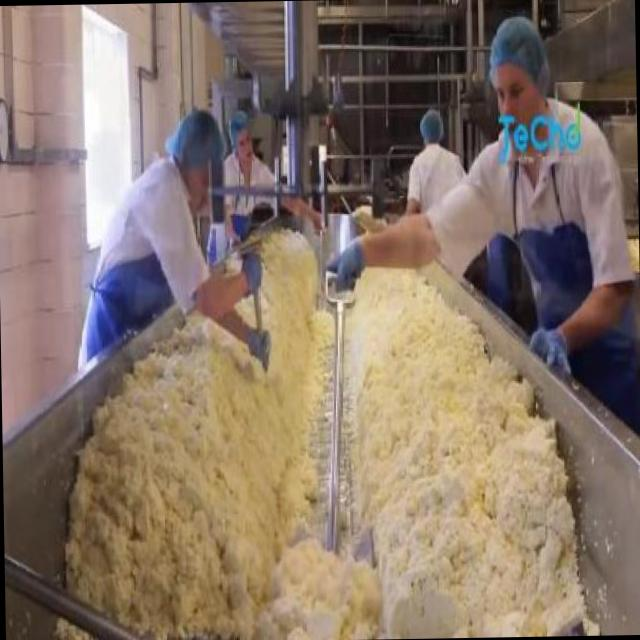hairnet: (488, 16, 551, 77), (169, 107, 224, 158), (418, 108, 442, 140), (229, 109, 250, 132)
